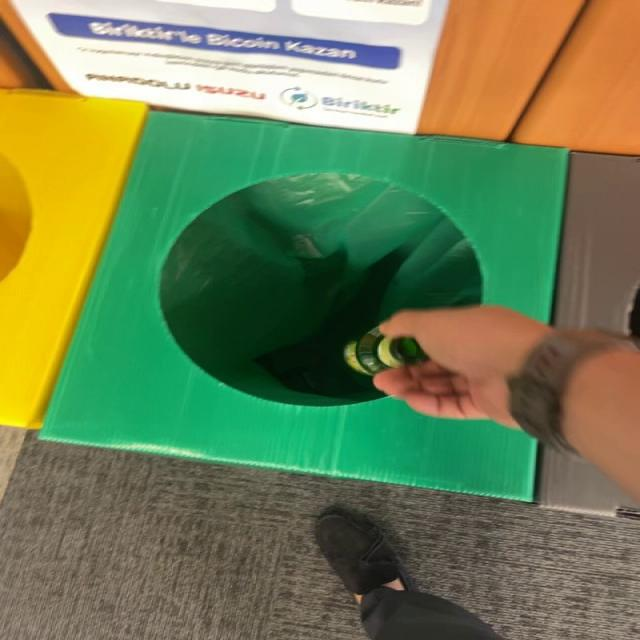glass: (343, 328, 429, 376)
